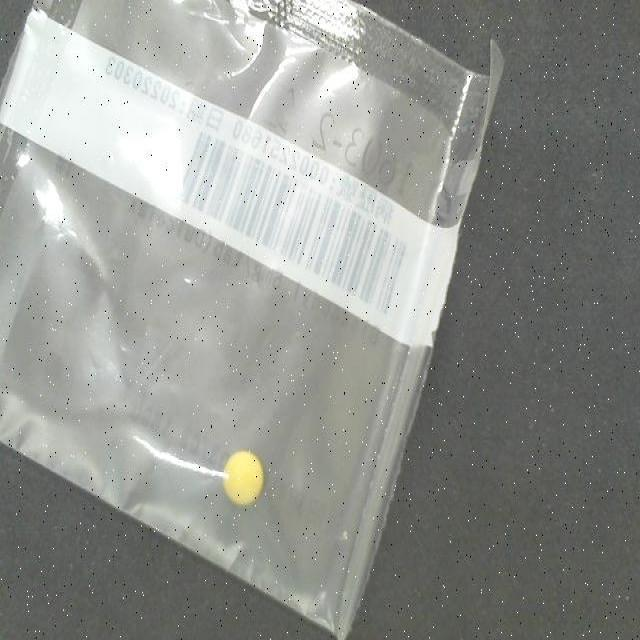pill: (223, 450, 266, 513)
